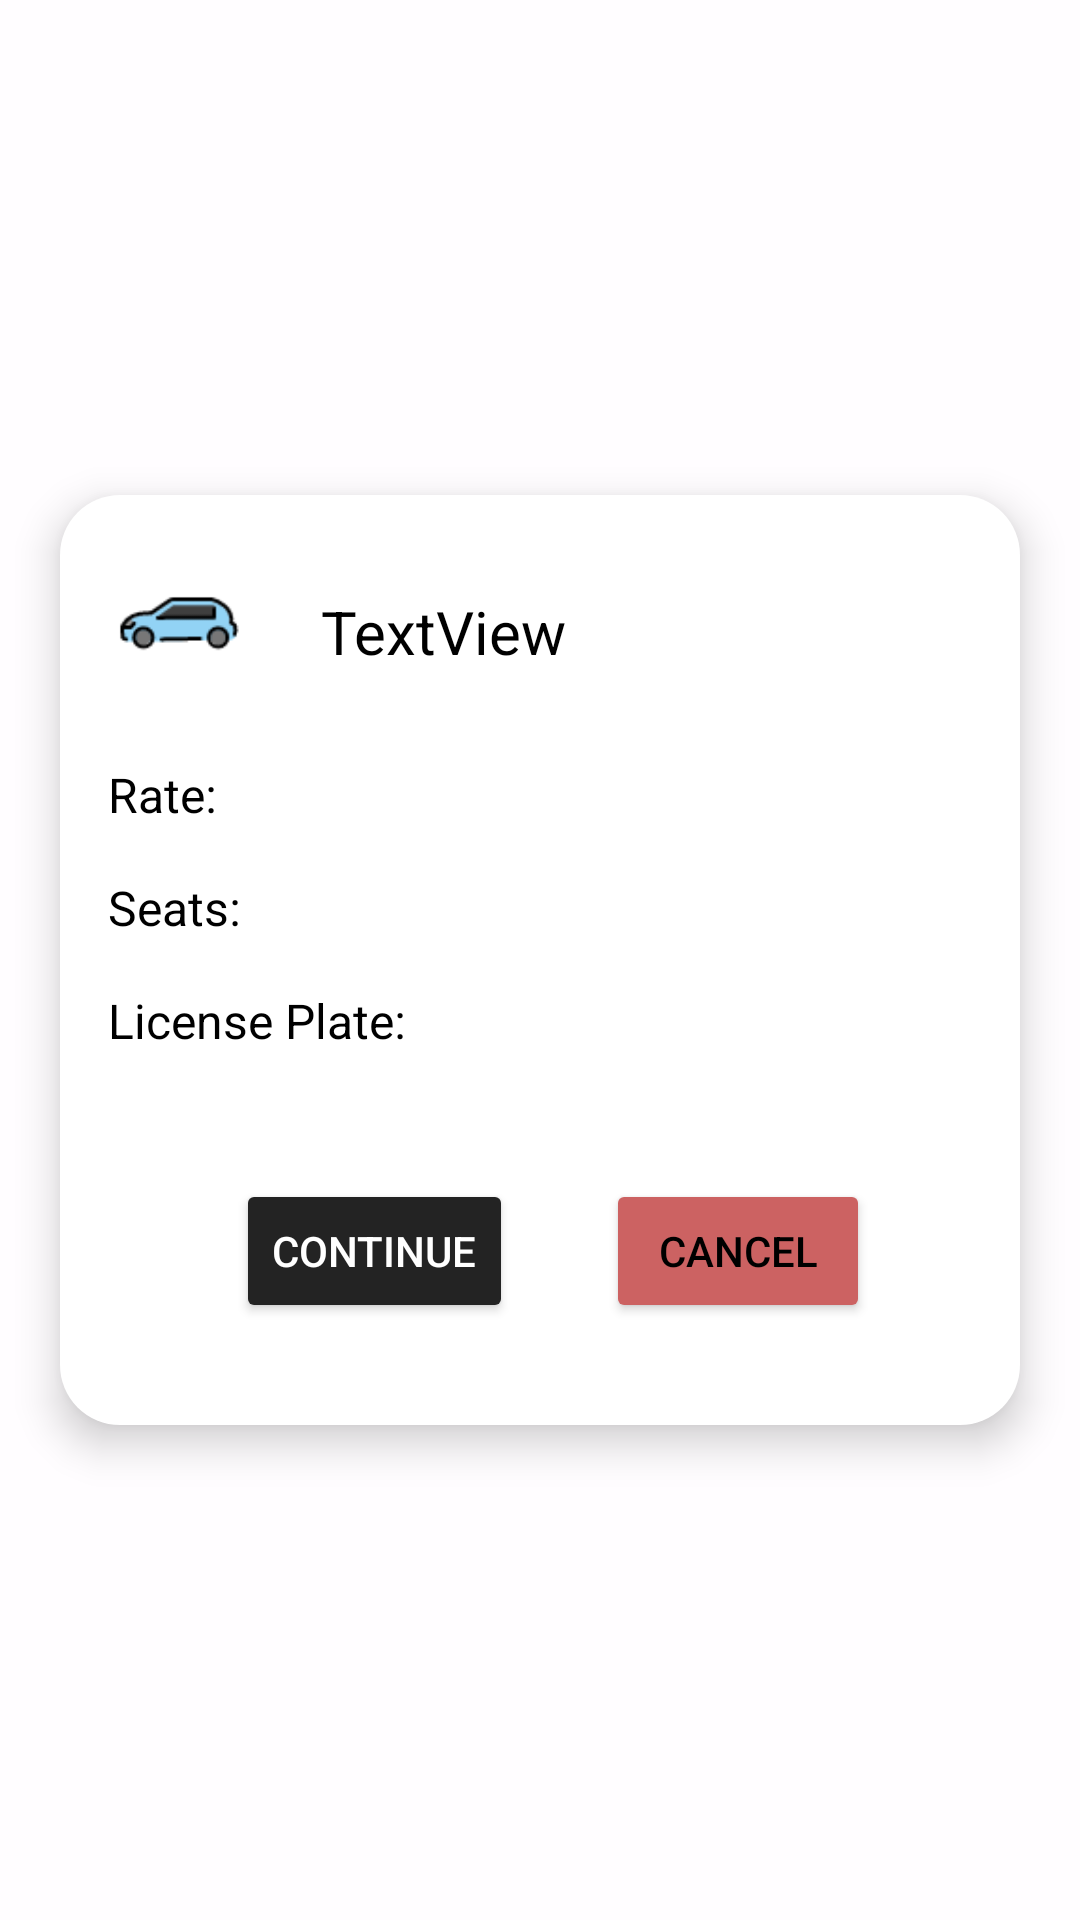

Named icons in this screenshot (1080 × 1920) and their bounding boxes, Rect(x1, y1, x2, y2):
in city car: Rect(120, 597, 239, 650)
